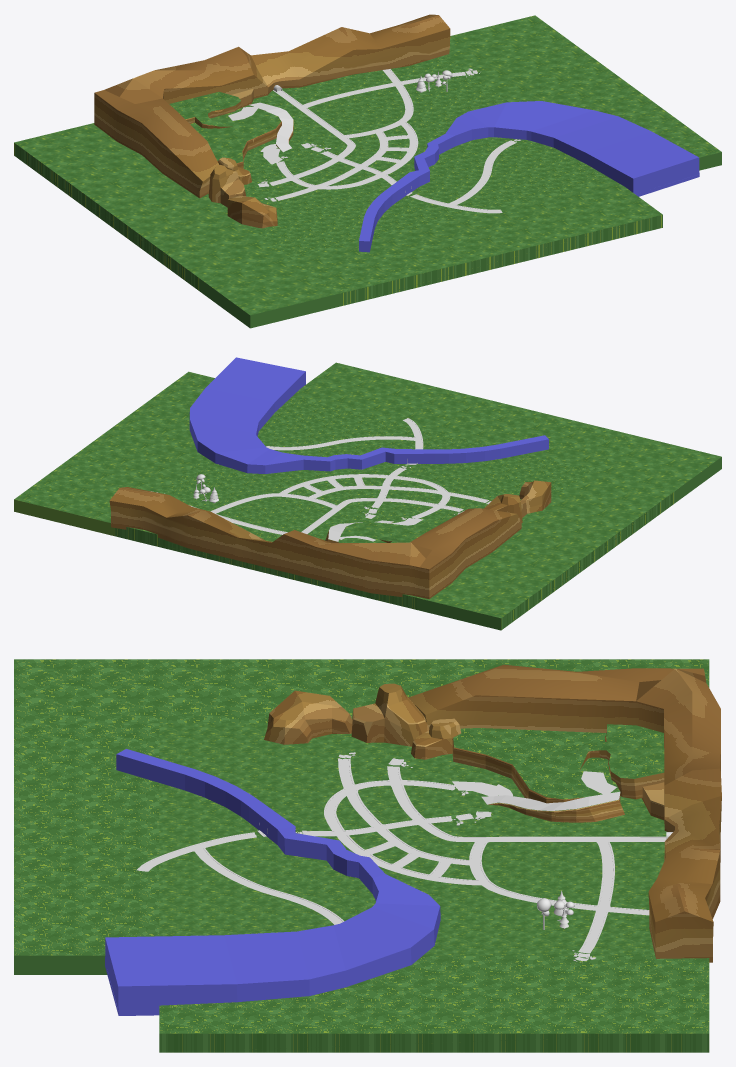
Rendered from map.fbx.
The picture shows the model from 3 angles, top to bottom: view 1: azimuth 30°, elevation 25°; view 2: azimuth 150°, elevation 25°; view 3: azimuth 270°, elevation 25°; orthographic projection. The views are drawn at different scales.
Parts seen in each view (by area): view 1: floor, mountain, waterboolean, road, Cube.003, rock03, Cube.009, Cube.001, rock01, Cube.005; view 2: floor, mountain, waterboolean, road, Cube.003, rock03, rock01, Cube.009; view 3: floor, mountain, waterboolean, road, Cube.003, rock03, rock01, Cube.001, Cube.009, Cube.005, Cube.002, rock02.
Part boxes in pixels (x1=…): floor: x1=14, y1=15, x2=721, y2=328; mountain: x1=94, y1=14, x2=450, y2=198; waterboolean: x1=359, y1=101, x2=699, y2=252; road: x1=258, y1=68, x2=520, y2=213; Cube.003: x1=190, y1=105, x2=281, y2=168; rock03: x1=227, y1=195, x2=277, y2=228; Cube.009: x1=228, y1=102, x2=293, y2=164; Cube.001: x1=169, y1=92, x2=241, y2=123; rock01: x1=208, y1=164, x2=245, y2=207; Cube.005: x1=175, y1=92, x2=240, y2=117; floor: x1=14, y1=362, x2=721, y2=630; mountain: x1=109, y1=487, x2=521, y2=598; waterboolean: x1=189, y1=357, x2=548, y2=473; road: x1=151, y1=418, x2=491, y2=534; Cube.003: x1=338, y1=517, x2=451, y2=542; rock03: x1=519, y1=480, x2=551, y2=513; rock01: x1=484, y1=494, x2=527, y2=522; Cube.009: x1=328, y1=518, x2=423, y2=541; floor: x1=14, y1=659, x2=709, y2=1052; mountain: x1=408, y1=664, x2=721, y2=962; waterboolean: x1=105, y1=749, x2=440, y2=1015; road: x1=136, y1=752, x2=666, y2=962; Cube.003: x1=452, y1=728, x2=620, y2=803; rock03: x1=264, y1=690, x2=352, y2=744; rock01: x1=351, y1=683, x2=429, y2=746; Cube.001: x1=599, y1=724, x2=664, y2=799; Cube.009: x1=452, y1=771, x2=620, y2=810; Cube.005: x1=599, y1=724, x2=664, y2=799; Cube.002: x1=488, y1=794, x2=624, y2=822; rock02: x1=411, y1=718, x2=461, y2=759.
Size of what is drawn, in the model's own units: 483 by 52.61 by 386.
6 materials, 2 textured.
